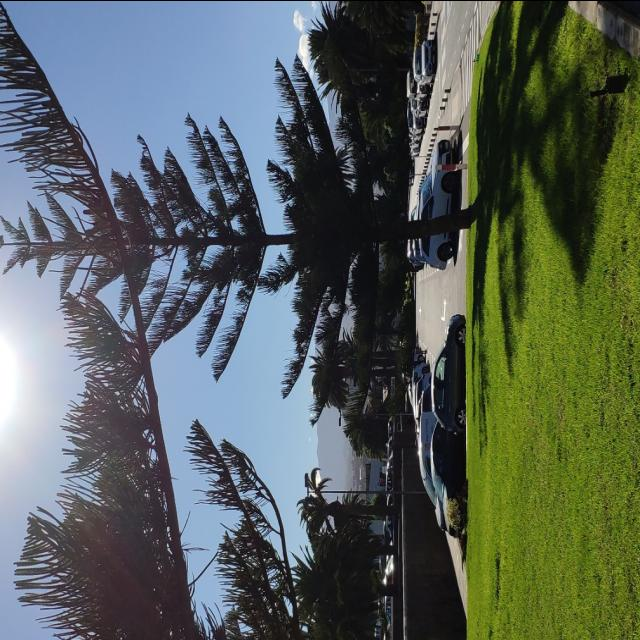Palm-Trees: (300, 479, 390, 539)
